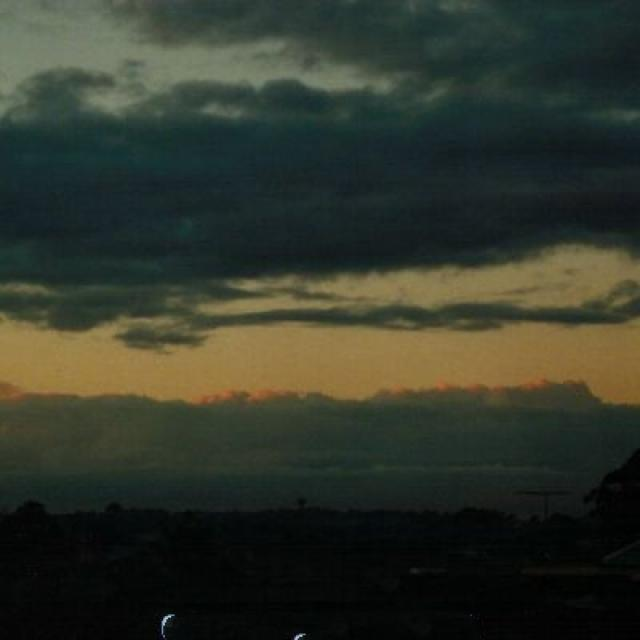Sc: (1, 37, 639, 350)
